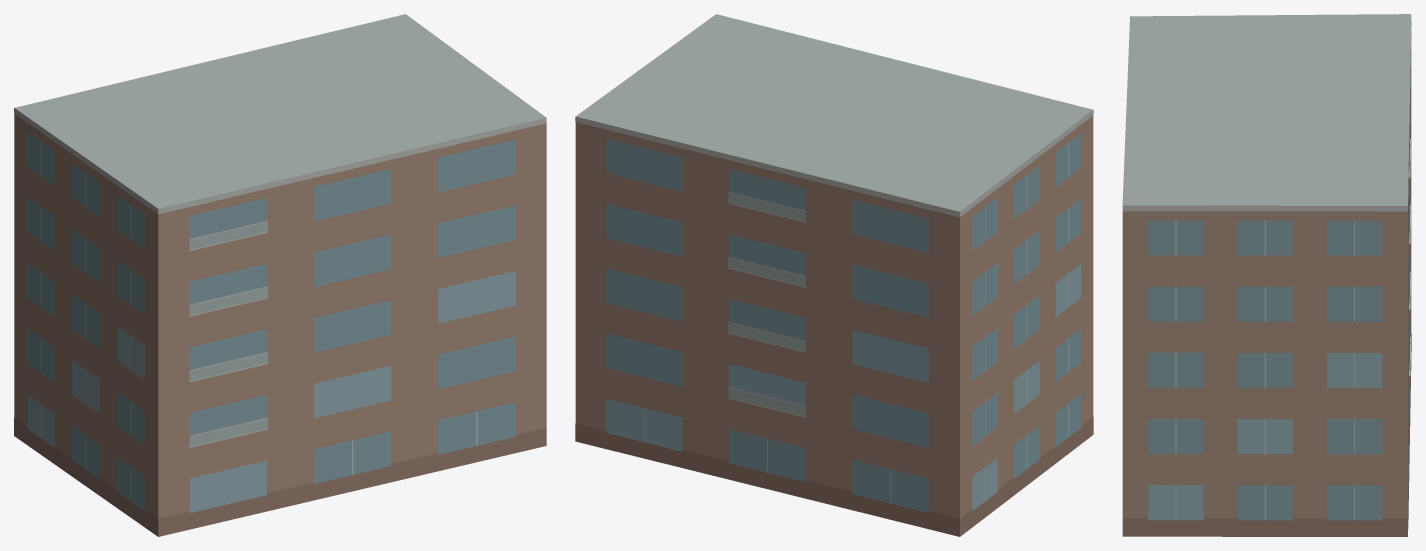
Rendered from survey-upis-33022206.glb.
3 renders of one model, left to right at view 1: azimuth 30°, elevation 25°; view 2: azimuth 150°, elevation 25°; view 3: azimuth 270°, elevation 25°, orthographic.
Parts seen in each view (by area): view 1: survey-upis-33022206.tmp; view 2: survey-upis-33022206.tmp; view 3: survey-upis-33022206.tmp.
Boxes of the visible parts, <box> form: survey-upis-33022206.tmp: <box>14,14,546,536</box>; survey-upis-33022206.tmp: <box>575,14,1093,536</box>; survey-upis-33022206.tmp: <box>1122,14,1411,536</box>.
Size of the model in its own units: 17.91 by 14.4 by 11.41.
